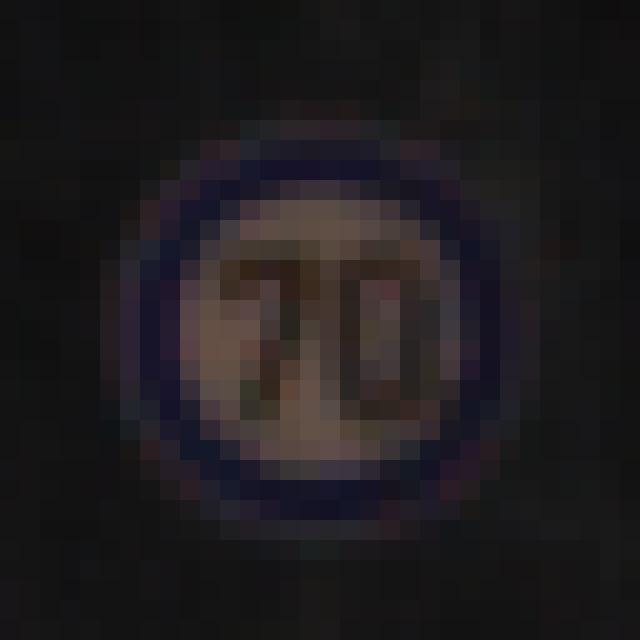SPEED LIMIT 70: (90, 137, 526, 536)
